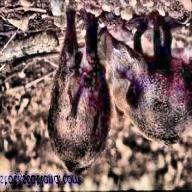boar: (31, 18, 114, 185), (101, 13, 192, 152)
